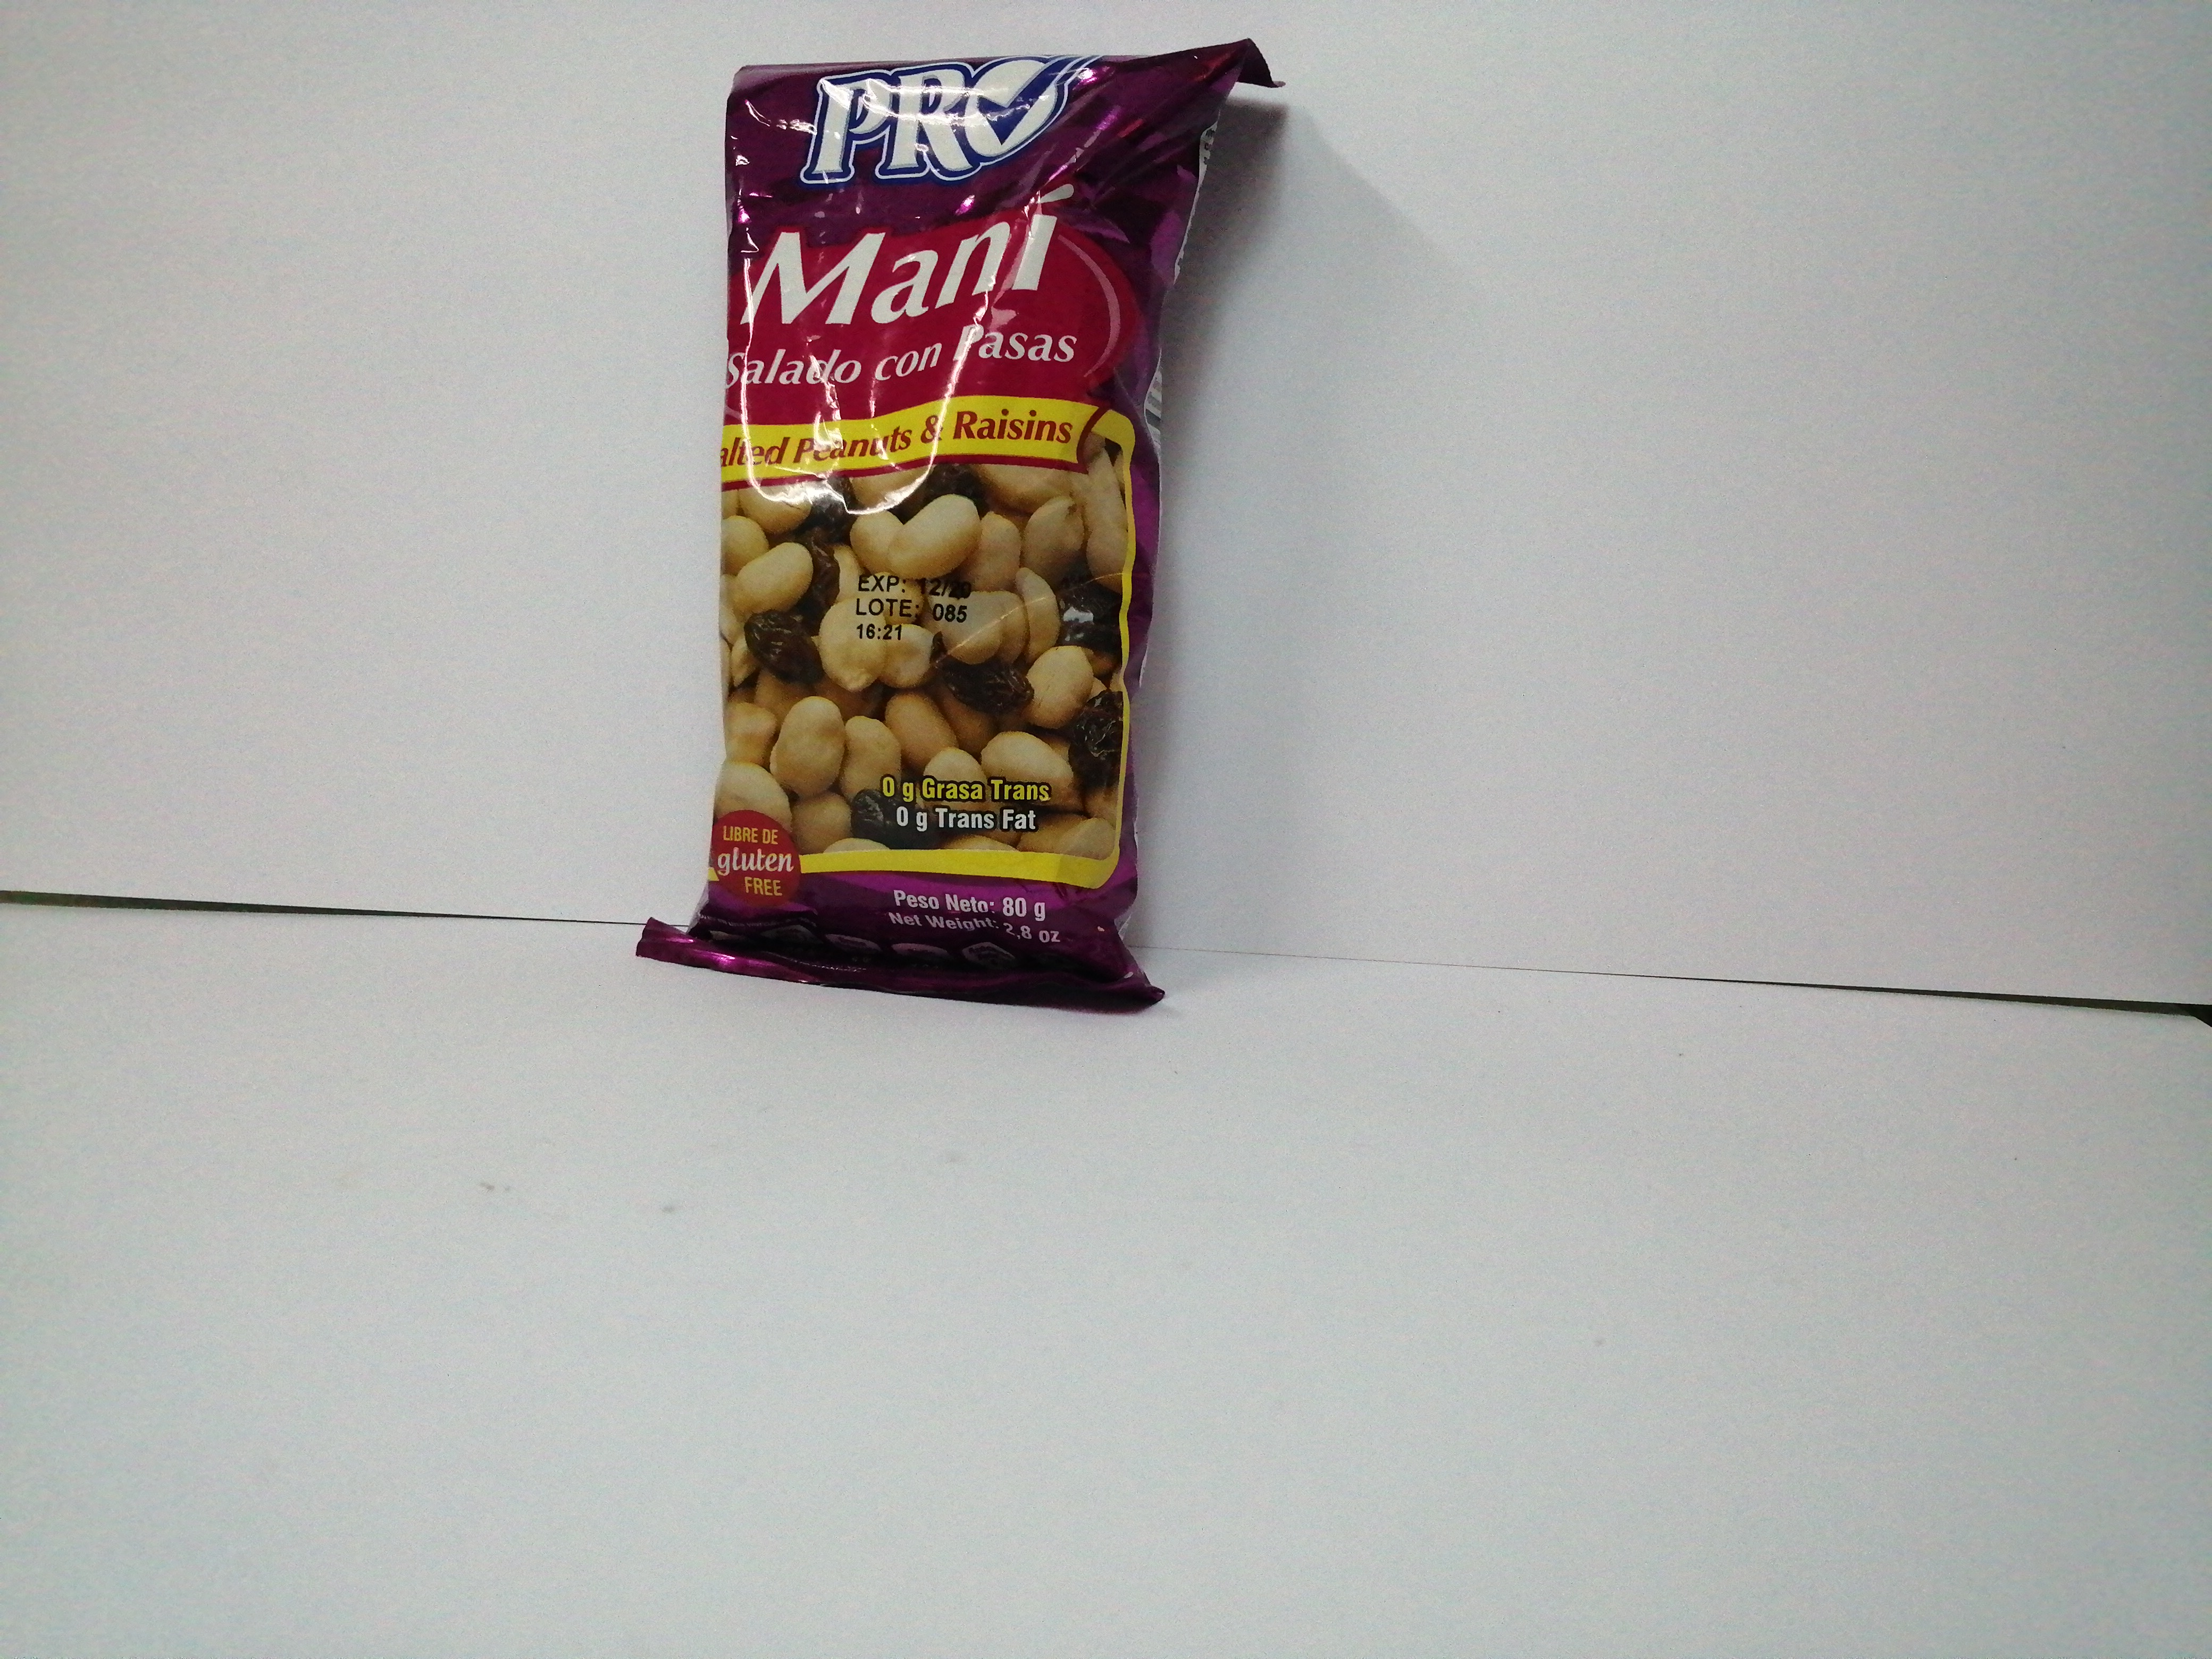mani: (632, 35, 1280, 1009)
